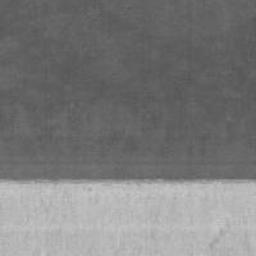Welding line: (0, 178, 256, 187)
